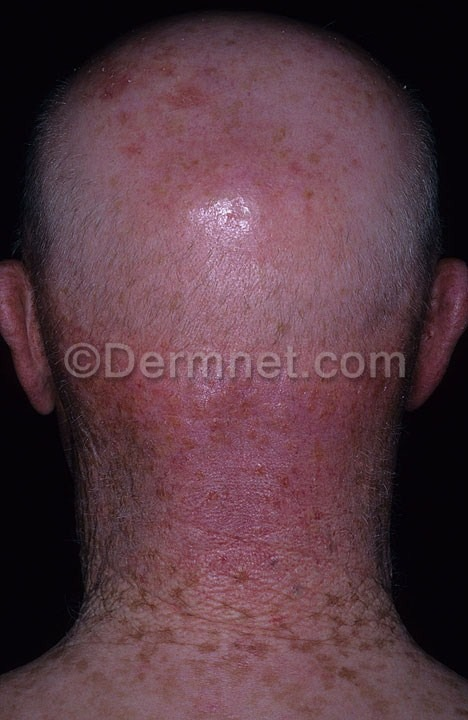Melasma: (39, 81, 126, 698), (167, 0, 263, 45)
